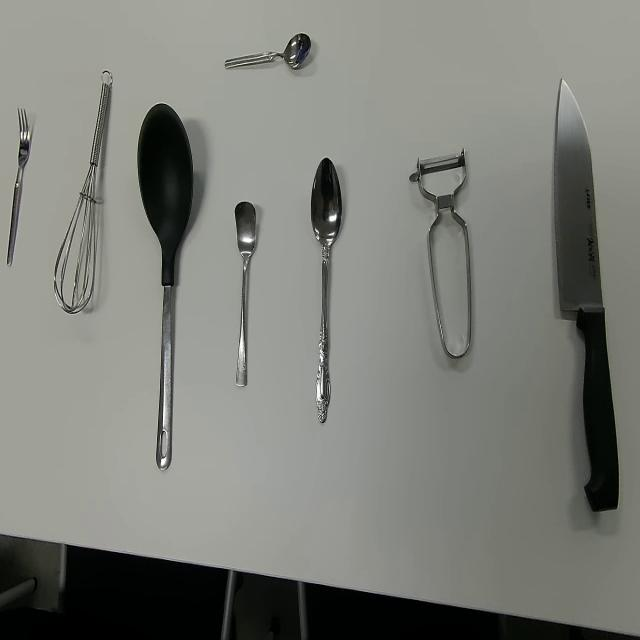Desert-Spoon: (310, 156, 342, 426)
Dinner-Fork: (6, 105, 31, 268)
Kitchen-Knife: (552, 73, 621, 514)
Peeler: (408, 146, 472, 360)
Serving-Spoon: (136, 100, 195, 471)
Tea-Spoon: (234, 199, 257, 387), (225, 31, 312, 72)
Whisk: (54, 68, 114, 313)
